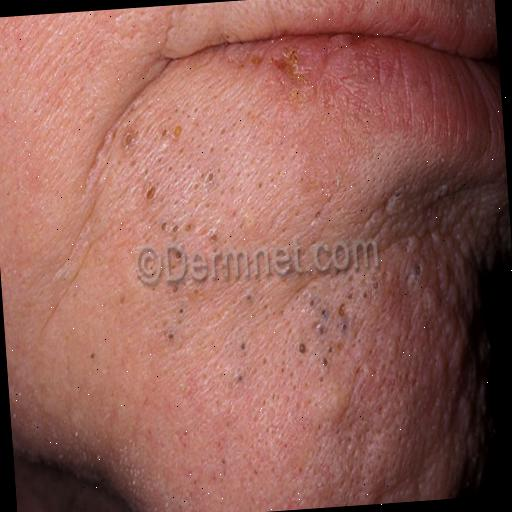Skin_Lesion: (305, 288, 353, 368), (440, 312, 470, 370), (322, 378, 351, 434), (261, 376, 292, 422), (270, 57, 302, 91), (160, 150, 194, 181), (158, 218, 196, 242), (264, 293, 288, 326), (408, 254, 428, 293), (386, 178, 410, 210), (202, 169, 222, 201), (254, 168, 278, 194), (206, 229, 225, 257), (400, 229, 420, 254), (362, 276, 384, 298), (194, 137, 216, 159), (116, 129, 137, 152), (212, 439, 226, 473), (222, 120, 234, 158), (292, 341, 310, 365), (312, 204, 328, 228), (142, 186, 159, 208), (238, 290, 255, 312), (156, 124, 168, 152), (116, 288, 130, 312), (169, 120, 183, 141), (188, 100, 199, 126), (175, 304, 190, 322), (90, 350, 102, 372), (232, 368, 243, 390), (237, 338, 247, 354), (436, 184, 448, 194), (166, 326, 172, 341)
